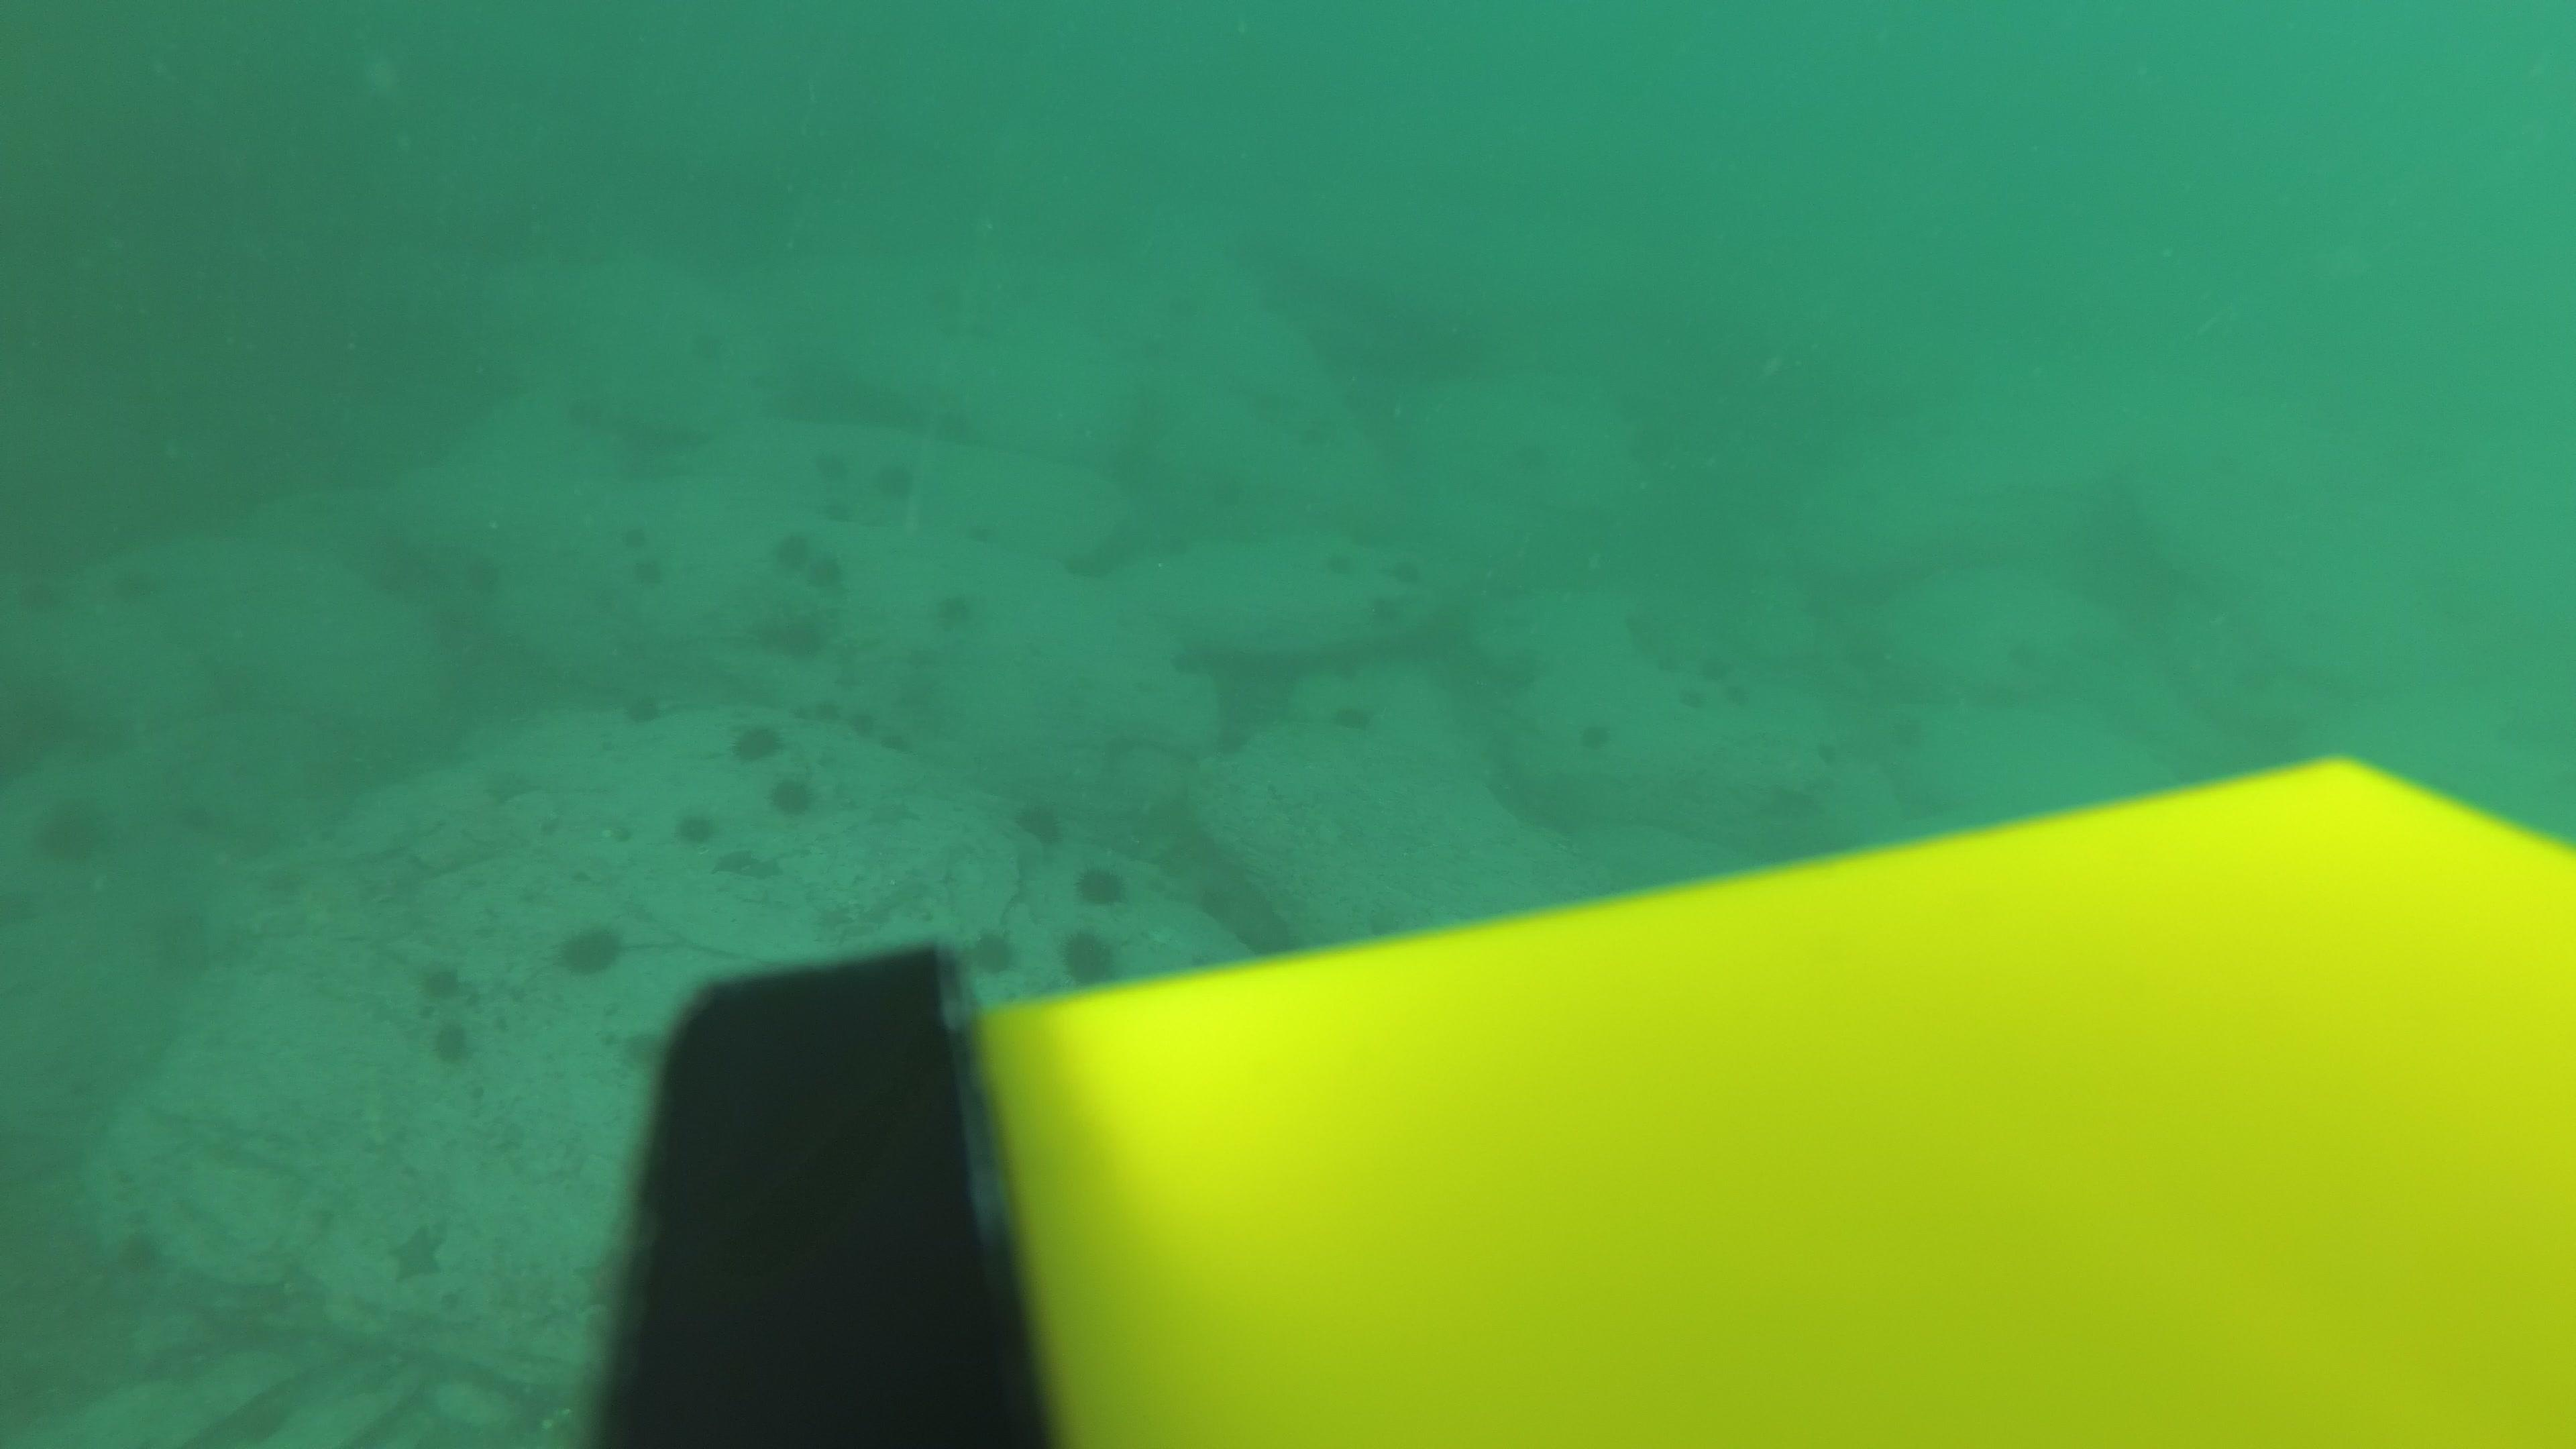echinus: (30, 791, 115, 869), (143, 897, 219, 980), (556, 916, 625, 980), (1058, 925, 1123, 991), (108, 1223, 170, 1279), (1012, 794, 1065, 847), (1074, 860, 1129, 909), (414, 957, 469, 1007), (731, 717, 784, 766), (768, 773, 817, 821), (428, 1019, 476, 1069), (874, 455, 918, 508), (672, 805, 718, 853), (932, 586, 978, 633), (619, 685, 667, 729), (1332, 695, 1380, 738), (108, 563, 159, 598), (1162, 640, 1203, 678), (771, 533, 814, 568), (18, 582, 62, 614), (807, 557, 846, 593), (932, 283, 971, 318), (462, 559, 501, 594), (977, 934, 1012, 973), (1511, 444, 1552, 478), (814, 453, 851, 488), (1720, 685, 1760, 717), (1198, 888, 1233, 924), (1300, 416, 1339, 448), (1571, 724, 1614, 752), (570, 400, 607, 432), (633, 557, 667, 591), (1698, 649, 1734, 681), (1675, 681, 1709, 713), (1159, 531, 1194, 561), (1391, 561, 1428, 589), (2012, 635, 2045, 665), (619, 522, 655, 550), (1890, 711, 1920, 743), (1815, 741, 1849, 770), (814, 701, 846, 729), (688, 329, 717, 361), (849, 713, 879, 741), (1323, 550, 1355, 577), (1373, 596, 1401, 623), (964, 525, 996, 548), (821, 502, 855, 524), (1138, 333, 1168, 356), (1656, 653, 1683, 672)
starfish: (386, 1219, 449, 1284), (483, 763, 538, 809), (741, 856, 782, 883), (711, 849, 752, 876)
